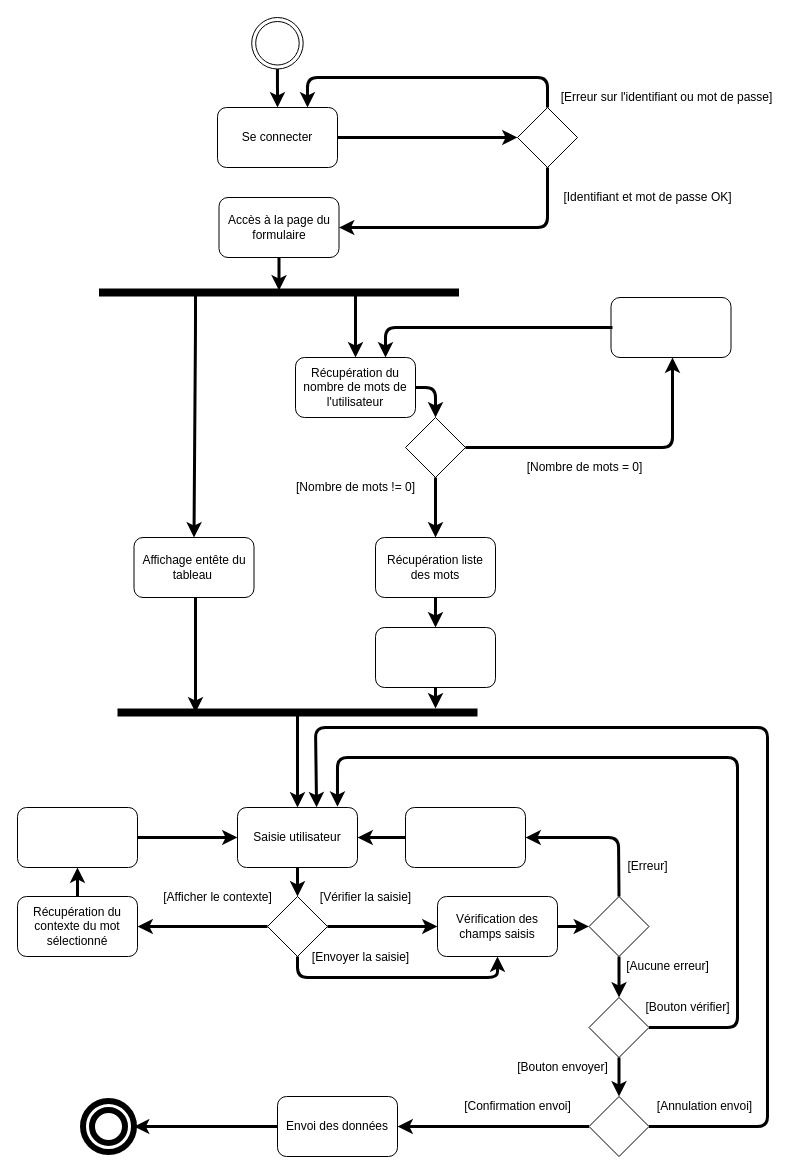
Image size: 798x1174. Some labels were removed from this diagram. The centre of each missing label's shape, as x and y in pixels:
Affichage erreur(s): pixel 465 837
Affichages des contextes: pixel 77 837
Allocation de mots: pixel 670 327
Génération du tableau contenant les mots: pixel 435 657
